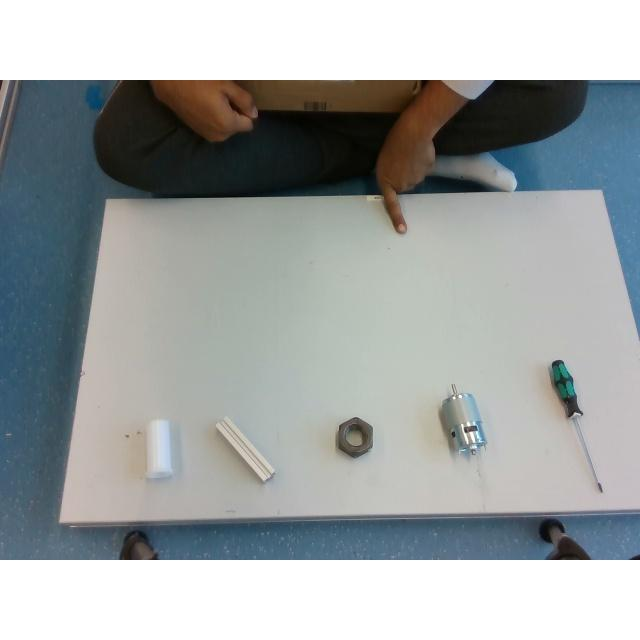F20_20_G: (215, 417, 275, 481)
M30: (336, 417, 372, 457)
Motor2: (438, 384, 486, 454)
Screwdriver: (550, 359, 602, 491)
Spacer: (146, 418, 174, 478)
